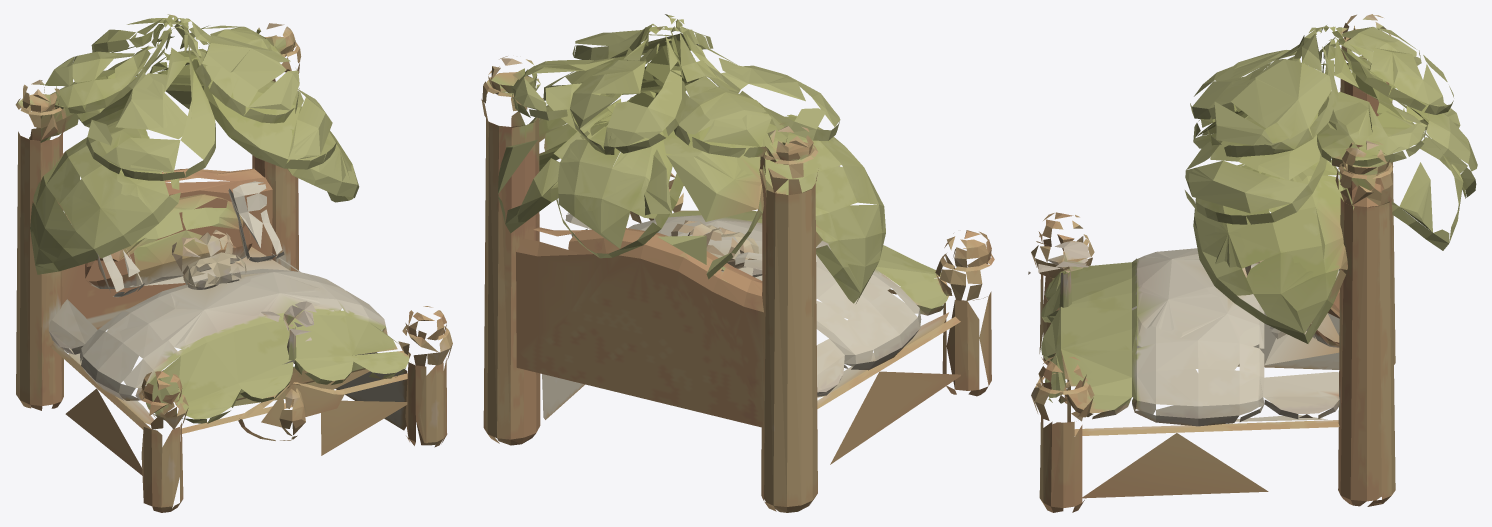
File: g_w_bed.glb
The picture shows the model from 3 angles, left to right: view 1: azimuth 30°, elevation 25°; view 2: azimuth 150°, elevation 25°; view 3: azimuth 270°, elevation 25°; orthographic projection. The views are drawn at different scales.
Visible parts, largest first — view 1: geometry_0; view 2: geometry_0; view 3: geometry_0.
Boxes of the visible parts, left/top/right/bottom form: geometry_0: left=15, top=14, right=452, bottom=512; geometry_0: left=481, top=14, right=994, bottom=512; geometry_0: left=1028, top=14, right=1477, bottom=512.
Size of the model in its own units: 0.1528 by 0.1768 by 0.1758.
